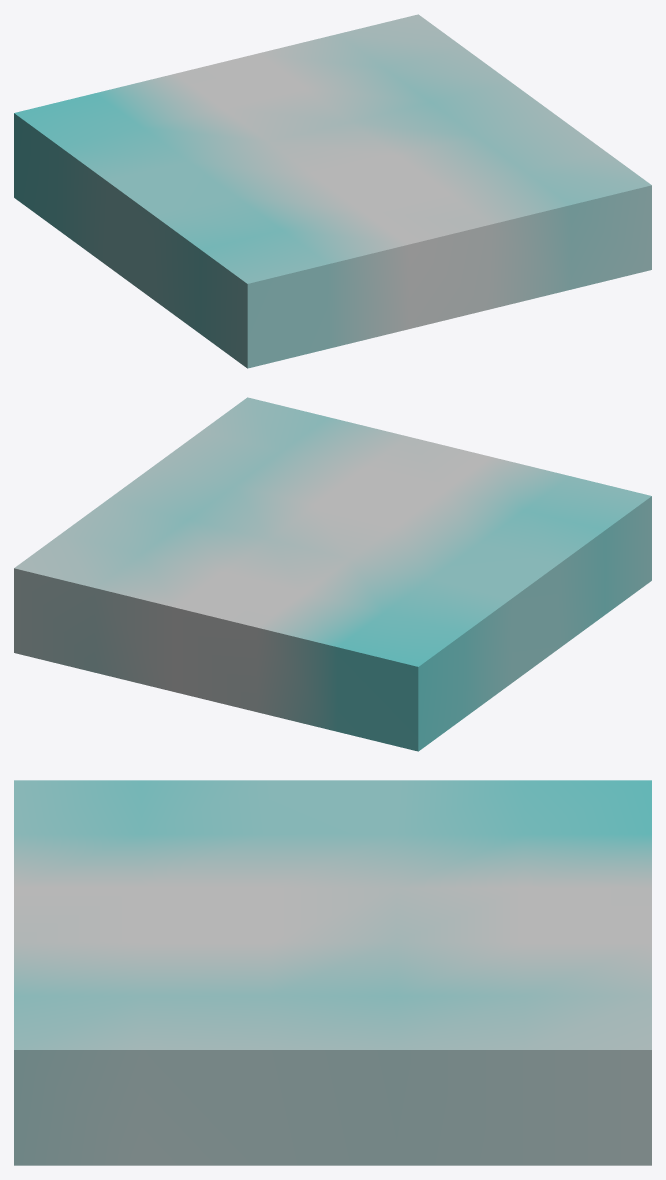
The picture shows the model from 3 angles, top to bottom: view 1: azimuth 30°, elevation 25°; view 2: azimuth 150°, elevation 25°; view 3: azimuth 270°, elevation 25°; orthographic projection. The views are drawn at different scales.
Visible parts, largest first — view 1: SM_Floor5x5-2_LOD0; view 2: SM_Floor5x5-2_LOD0; view 3: SM_Floor5x5-2_LOD0.
Part boxes in pixels (box(x1,y1,x2,y2)): SM_Floor5x5-2_LOD0: box(14, 14, 651, 368); SM_Floor5x5-2_LOD0: box(14, 397, 651, 751); SM_Floor5x5-2_LOD0: box(14, 780, 651, 1165).
Bounding box in the file's own units: 500 × 500 × 100.
